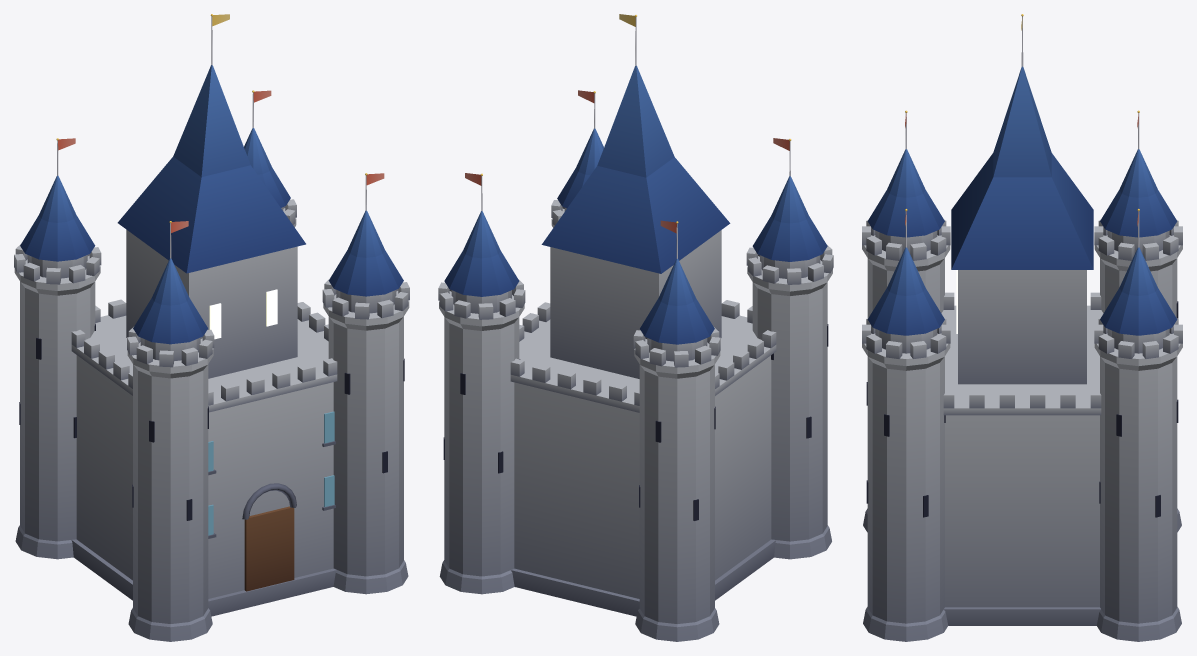
Rendered from castle_keep.glb.
The picture shows the model from 3 angles, left to right: view 1: azimuth 30°, elevation 25°; view 2: azimuth 150°, elevation 25°; view 3: azimuth 270°, elevation 25°; orthographic projection. The views are drawn at different scales.
Parts seen in each view (by area): view 1: castle_keep; view 2: castle_keep; view 3: castle_keep.
Part boxes in pixels (bbox=[...]): castle_keep: bbox=[14, 14, 409, 641]; castle_keep: bbox=[438, 14, 833, 641]; castle_keep: bbox=[862, 14, 1182, 641].
Bounding box in the file's own units: 12.43 × 23.95 × 12.43.
